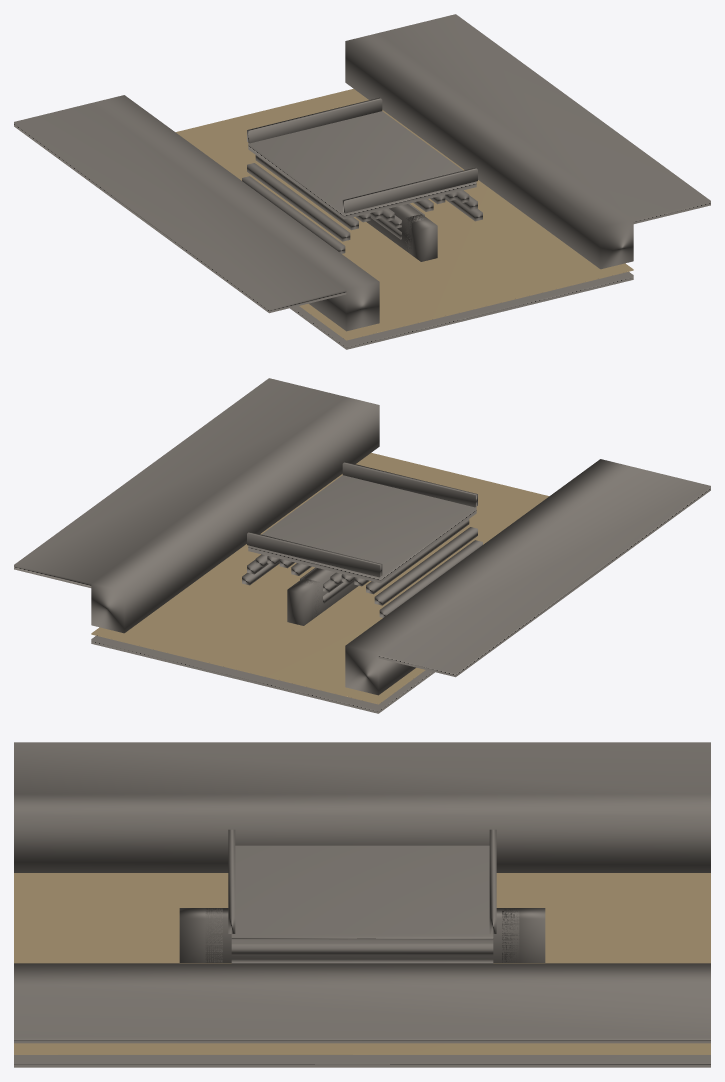
3 renders of one model, top to bottom at view 1: azimuth 30°, elevation 25°; view 2: azimuth 150°, elevation 25°; view 3: azimuth 270°, elevation 25°, orthographic. The views are drawn at different scales.
Parts seen in each view (by area): view 1: gwangtonggyo_street_lod2, gwangtonggyo_river_lod2, gwangtonggyo_bridge_lod2; view 2: gwangtonggyo_street_lod2, gwangtonggyo_river_lod2, gwangtonggyo_bridge_lod2; view 3: gwangtonggyo_street_lod2, gwangtonggyo_river_lod2, gwangtonggyo_bridge_lod2.
Part boxes in pixels (x1,y1,x2,y2): gwangtonggyo_street_lod2: (14, 14, 710, 331); gwangtonggyo_river_lod2: (175, 88, 633, 349); gwangtonggyo_bridge_lod2: (242, 97, 482, 261); gwangtonggyo_street_lod2: (14, 378, 710, 695); gwangtonggyo_river_lod2: (91, 452, 549, 713); gwangtonggyo_bridge_lod2: (242, 461, 482, 625); gwangtonggyo_street_lod2: (14, 742, 710, 1043); gwangtonggyo_river_lod2: (14, 873, 710, 1067); gwangtonggyo_bridge_lod2: (179, 829, 545, 963).
Size of the model in its own units: 40 by 6.2 by 40.
2 materials, 2 textured.
